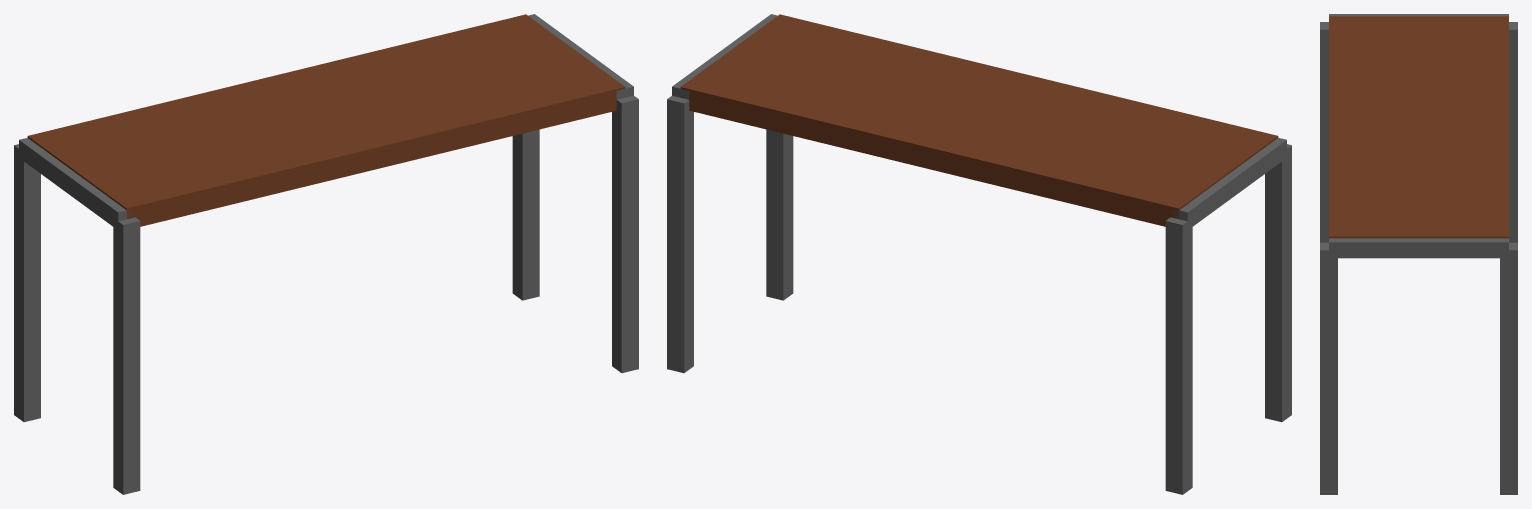
The model's file is VPT2.fbx.
The picture shows the model from 3 angles, left to right: view 1: azimuth 30°, elevation 25°; view 2: azimuth 150°, elevation 25°; view 3: azimuth 270°, elevation 25°; orthographic projection. The views are drawn at different scales.
Visible parts, largest first — view 1: Cube.067, Cube.066, Cube.065, Cube.068, Cube.069, Cube.020, Cube.028; view 2: Cube.067, Cube.068, Cube.069, Cube.066, Cube.065, Cube.020, Cube.028; view 3: Cube.067, Cube.065, Cube.069, Cube.028, Cube.066, Cube.068, Cube.020.
Boxes of the visible parts, bbox=[...] form: Cube.067: bbox=[27, 14, 625, 226]; Cube.066: bbox=[113, 217, 140, 494]; Cube.065: bbox=[612, 95, 638, 373]; Cube.068: bbox=[14, 144, 40, 422]; Cube.069: bbox=[512, 129, 539, 300]; Cube.020: bbox=[19, 138, 131, 229]; Cube.028: bbox=[528, 14, 633, 99]; Cube.067: bbox=[680, 14, 1278, 226]; Cube.068: bbox=[1165, 217, 1192, 494]; Cube.069: bbox=[667, 95, 693, 373]; Cube.066: bbox=[1265, 144, 1291, 422]; Cube.065: bbox=[766, 129, 793, 300]; Cube.020: bbox=[1171, 138, 1286, 226]; Cube.028: bbox=[672, 14, 777, 99]; Cube.067: bbox=[1329, 16, 1508, 238]; Cube.065: bbox=[1320, 242, 1337, 494]; Cube.069: bbox=[1500, 242, 1517, 494]; Cube.028: bbox=[1329, 238, 1508, 258]; Cube.066: bbox=[1320, 22, 1328, 242]; Cube.068: bbox=[1509, 22, 1517, 242]; Cube.020: bbox=[1329, 14, 1508, 16].
Bounding box in the file's own units: 300 × 156 × 110.
